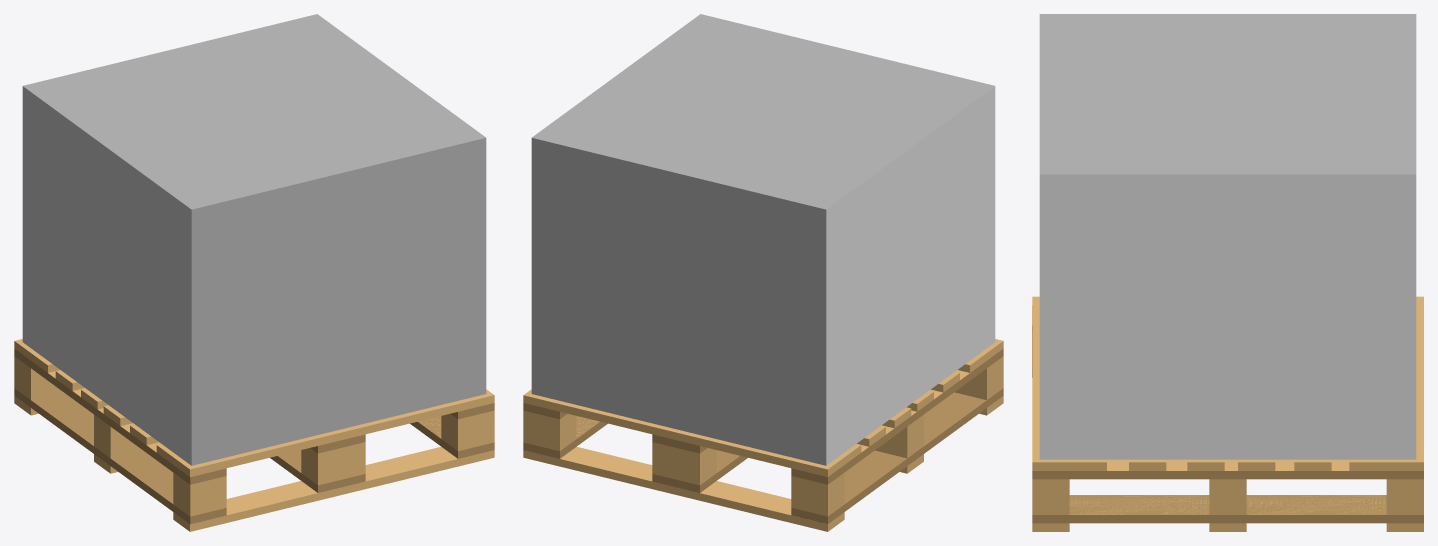
File: pallete.dae
3 views of the same model, side by side, from view 1: azimuth 30°, elevation 25°; view 2: azimuth 150°, elevation 25°; view 3: azimuth 270°, elevation 25° (orthographic). The views are drawn at different scales.
Visible parts, largest first — view 1: group_1 (×2), Компонент_1 (×11); view 2: group_1 (×2), Компонент_1 (×11); view 3: group_1 (×2), Компонент_1 (×8).
Boxes of the visible parts, x1,y1,x2,y2 form: group_1 (×2): [22, 14, 486, 465]; Компонент_1 (×11): [14, 339, 494, 531]; group_1 (×2): [531, 14, 995, 465]; Компонент_1 (×11): [523, 339, 1003, 531]; group_1 (×2): [1039, 14, 1416, 459]; Компонент_1 (×8): [1032, 296, 1423, 523].
Bounding box in the file's own units: 39.37 × 39.37 × 39.37.
